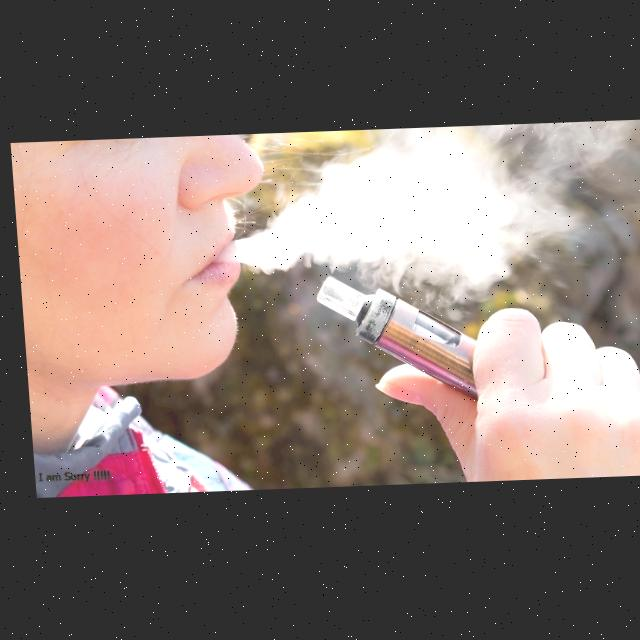vape: (311, 273, 474, 407)
